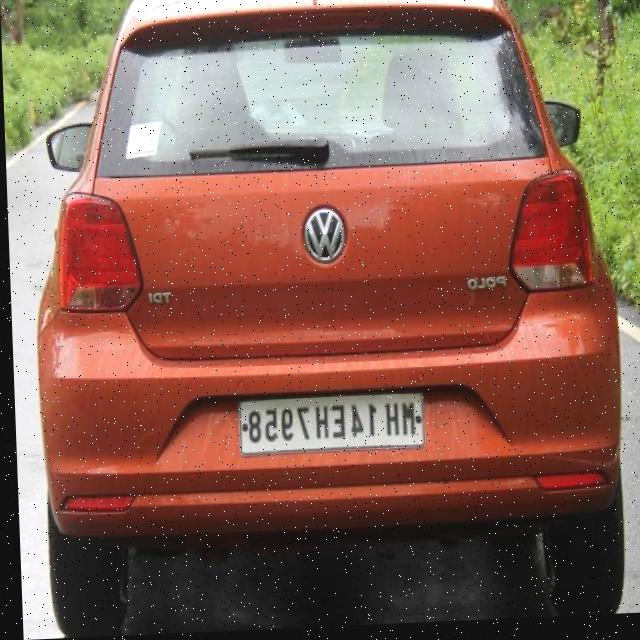plate: (237, 396, 418, 456)
